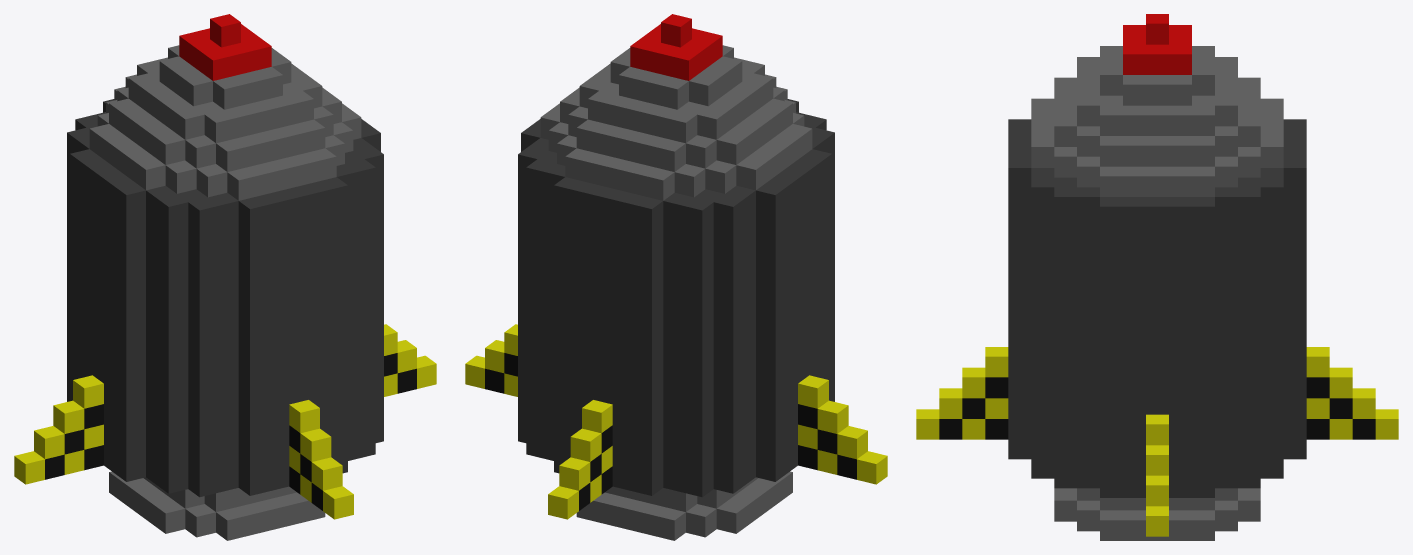
The model's file is rocket.glb.
3 renders of one model, left to right at view 1: azimuth 30°, elevation 25°; view 2: azimuth 150°, elevation 25°; view 3: azimuth 270°, elevation 25°, orthographic.
Parts seen in each view (by area): view 1: rocket; view 2: rocket; view 3: rocket.
Part boxes in pixels (x1,y1,x2,y2): rocket: [14, 14, 436, 540]; rocket: [465, 14, 887, 540]; rocket: [916, 14, 1398, 540].
Bounding box in the file's own units: 2.1 × 2.3 × 2.1.
